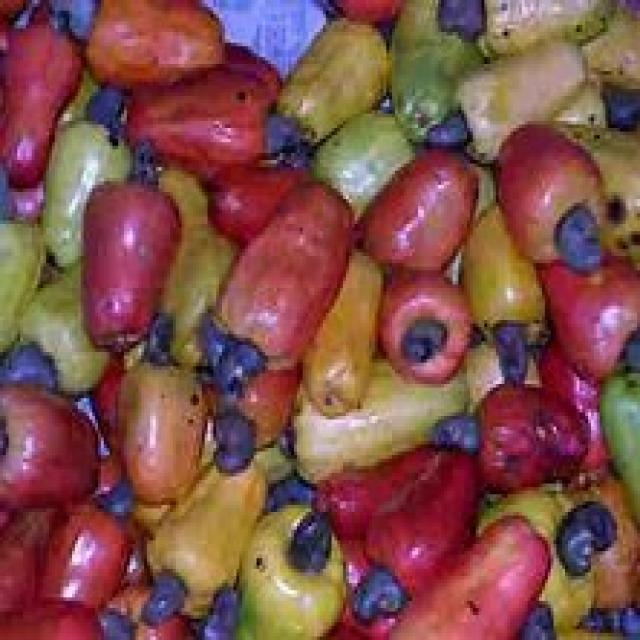Cashew: (210, 342, 264, 395)
